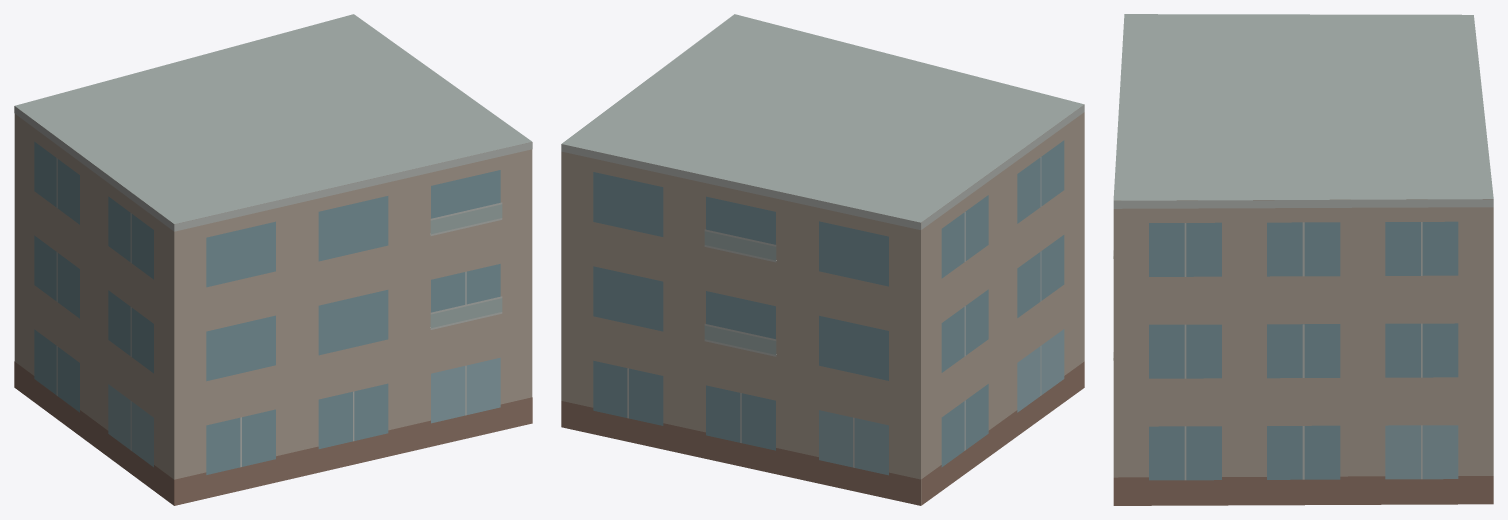
File: survey-upis-32840984.glb
3 views of the same model, side by side, from view 1: azimuth 30°, elevation 25°; view 2: azimuth 150°, elevation 25°; view 3: azimuth 270°, elevation 25° (orthographic). The views are drawn at different scales.
Parts seen in each view (by area): view 1: survey-upis-32840984.tmp; view 2: survey-upis-32840984.tmp; view 3: survey-upis-32840984.tmp.
Part boxes in pixels (<box>): survey-upis-32840984.tmp: <box>14,14,532,505</box>; survey-upis-32840984.tmp: <box>561,14,1084,505</box>; survey-upis-32840984.tmp: <box>1113,14,1493,505</box>.
Bounding box in the file's own units: 12.02 × 9.15 × 10.35.
